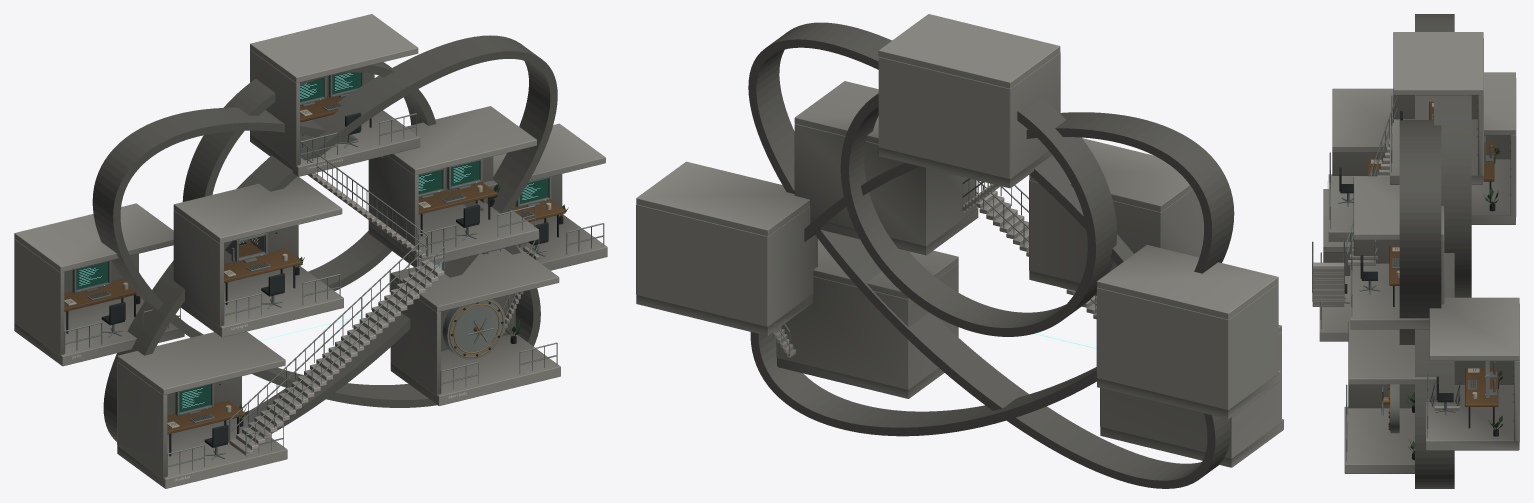
File: workshop.glb
3 views of the same model, side by side, from view 1: azimuth 30°, elevation 25°; view 2: azimuth 150°, elevation 25°; view 3: azimuth 270°, elevation 25° (orthographic). The views are drawn at different scales.
Parts seen in each view (by area): view 1: exterior_warm limestone, exterior_brushed titanium, exterior_cut stone, exterior_smoked oak, exterior_screen, exterior_graphite, exterior_phosphor; view 2: exterior_warm limestone, exterior_cut stone, exterior_brushed titanium; view 3: exterior_warm limestone, exterior_brushed titanium, exterior_cut stone, exterior_smoked oak, exterior_graphite, exterior_leaves, exterior_warm paper.
Boxes of the visible parts, x1,y1,x2,y2 form: exterior_warm limestone: (14, 14, 607, 488); exterior_brushed titanium: (64, 72, 604, 476); exterior_cut stone: (229, 162, 539, 455); exterior_smoked oak: (64, 96, 565, 434); exterior_screen: (76, 72, 548, 412); exterior_graphite: (66, 111, 563, 456); exterior_phosphor: (79, 73, 545, 408); exterior_warm limestone: (636, 14, 1283, 488); exterior_cut stone: (771, 184, 1096, 357); exterior_brushed titanium: (778, 178, 1096, 355); exterior_warm limestone: (1319, 14, 1519, 488); exterior_brushed titanium: (1312, 95, 1496, 461); exterior_cut stone: (1312, 119, 1459, 410); exterior_smoked oak: (1368, 101, 1498, 406); exterior_graphite: (1339, 102, 1513, 460); exterior_leaves: (1406, 147, 1503, 453); exterior_warm paper: (1370, 103, 1479, 398).
Bounding box in the file's own units: 17 × 11.1 × 5.77.
